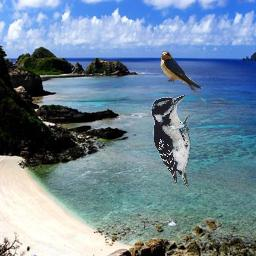Swallow: (160, 51, 207, 104)
Woodpecker: (151, 95, 193, 190)
